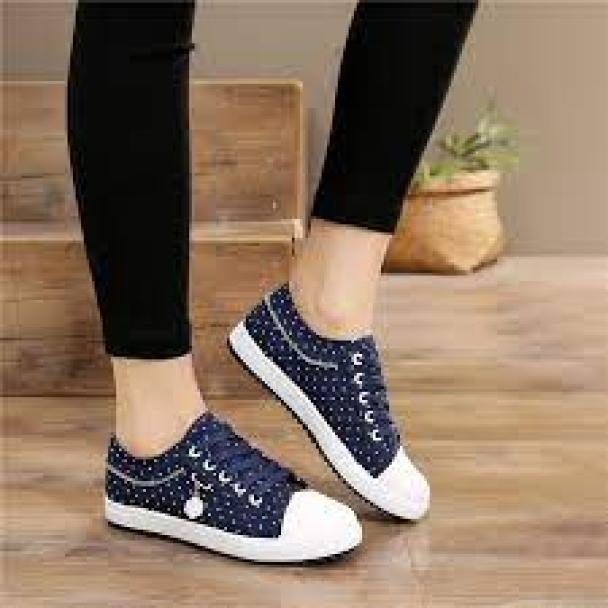Sepatu: (222, 280, 436, 518), (101, 411, 363, 569)
